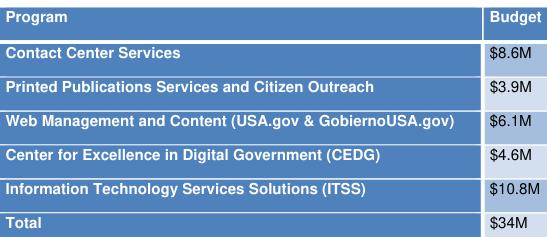table: (4, 4, 540, 231)
table column: (4, 4, 470, 231), (470, 4, 540, 231)
table column header: (4, 4, 540, 33)
table row: (4, 33, 540, 68), (4, 68, 540, 102), (4, 102, 540, 136), (4, 169, 540, 203), (4, 136, 540, 169), (4, 4, 540, 33), (4, 203, 540, 231)
